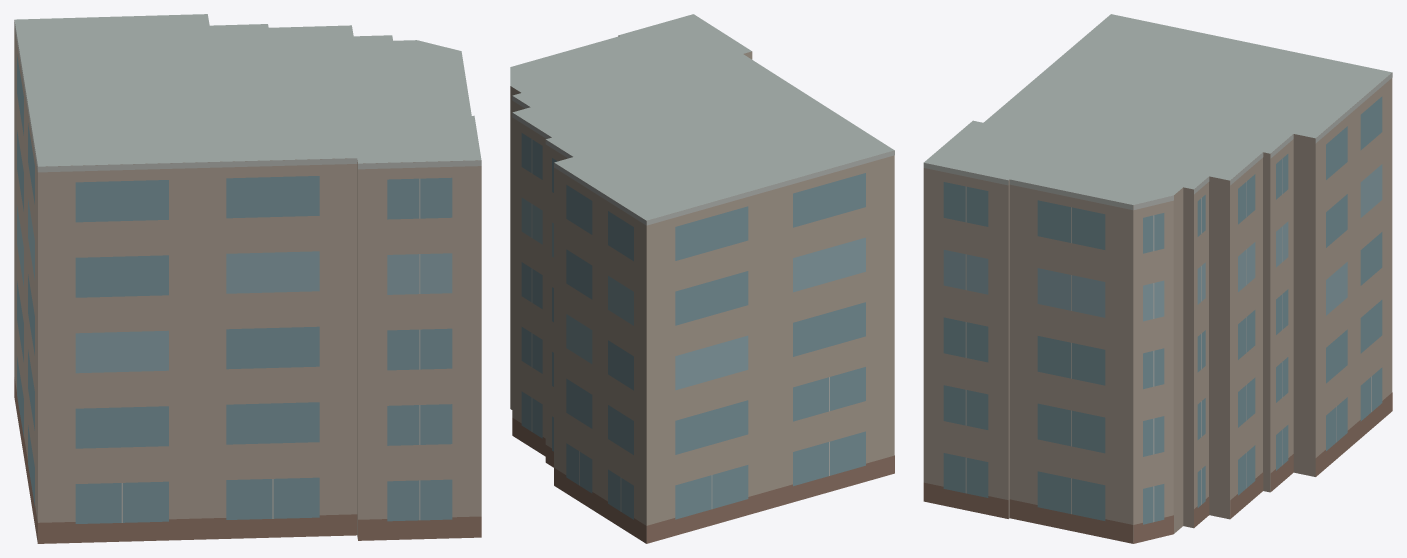
Rendered from survey-upis-32585609.glb.
3 renders of one model, left to right at view 1: azimuth 30°, elevation 25°; view 2: azimuth 150°, elevation 25°; view 3: azimuth 270°, elevation 25°, orthographic. The views are drawn at different scales.
Visible parts, largest first — view 1: survey-upis-32585609.tmp; view 2: survey-upis-32585609.tmp; view 3: survey-upis-32585609.tmp.
Boxes of the visible parts, left/top/right/bottom form: survey-upis-32585609.tmp: left=14, top=14, right=481, bottom=543; survey-upis-32585609.tmp: left=510, top=14, right=894, bottom=543; survey-upis-32585609.tmp: left=923, top=14, right=1392, bottom=543.
Bounding box in the file's own units: 19.37 × 16 × 20.08.
